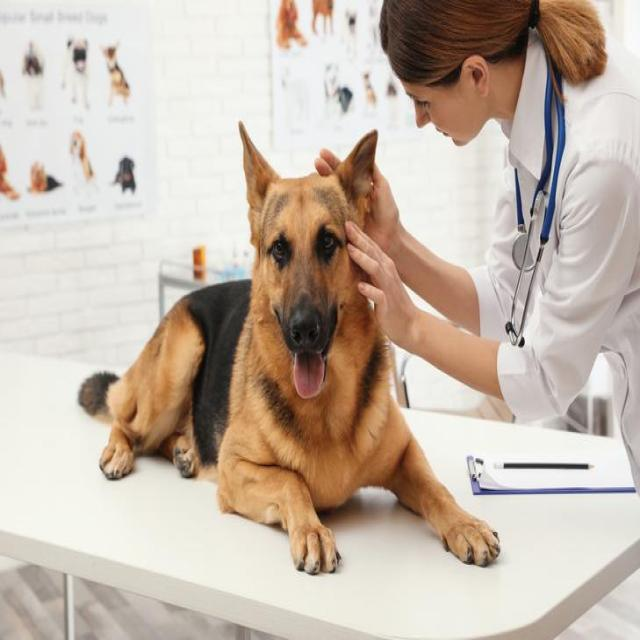GERMAN_SHEPHERD: (62, 97, 508, 614)
